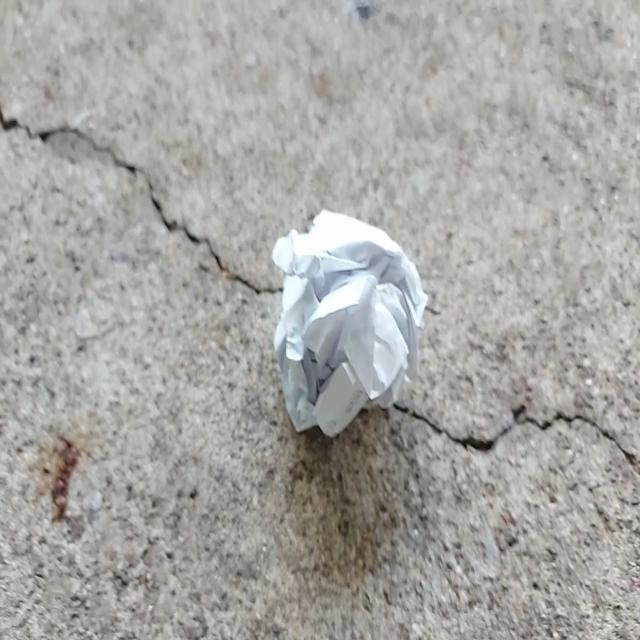Paper: (242, 180, 441, 454)
